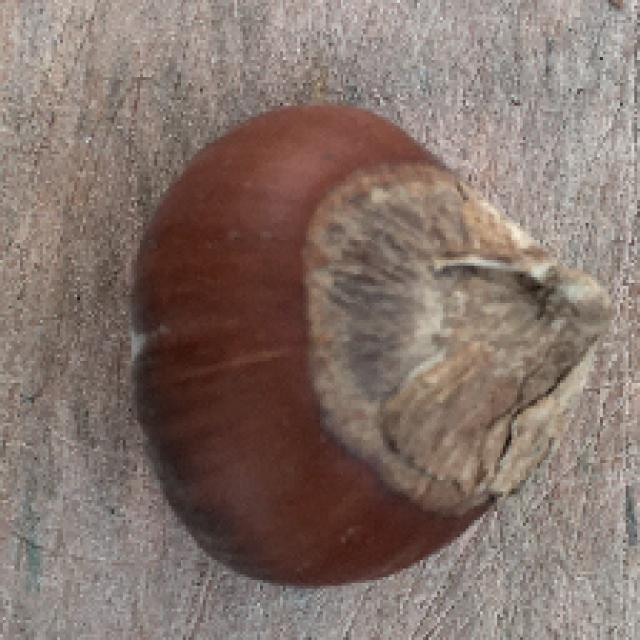damagedHazelnut: (123, 93, 604, 594)
